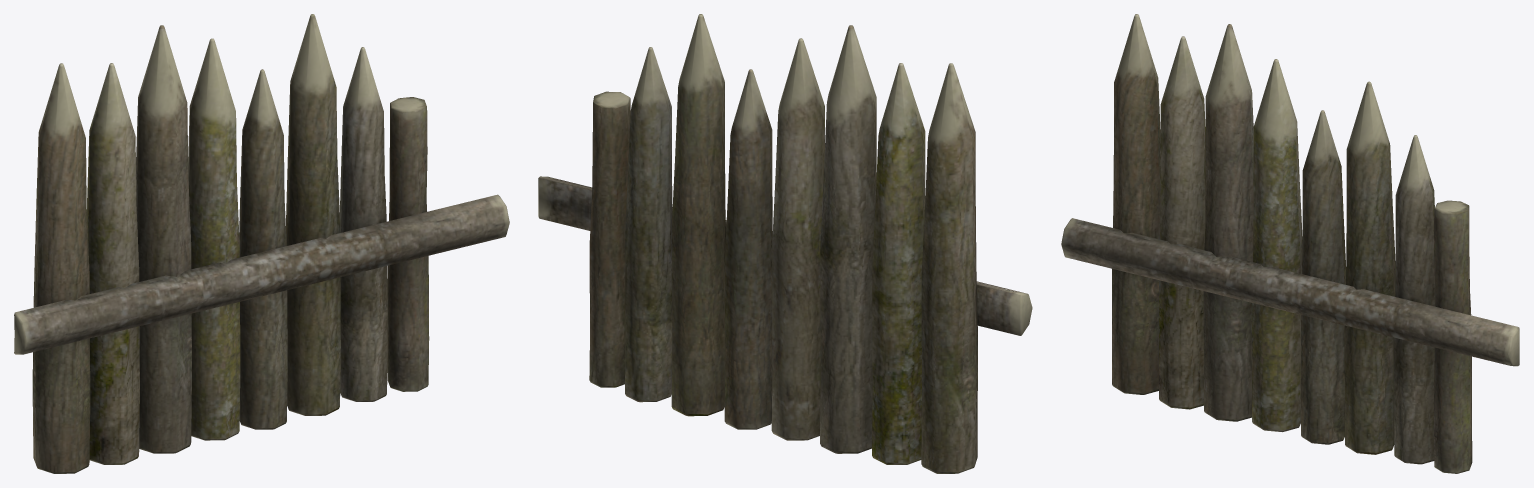
File: wooden_wall_1.glb
3 renders of one model, left to right at view 1: azimuth 30°, elevation 25°; view 2: azimuth 150°, elevation 25°; view 3: azimuth 330°, elevation 25°, orthographic. The views are drawn at different scales.
Visible parts, largest first — view 1: wooden_wall_1; view 2: wooden_wall_1; view 3: wooden_wall_1.
Boxes of the visible parts, box(x1,y1,x2,y2) form: wooden_wall_1: box(14, 14, 509, 473); wooden_wall_1: box(538, 14, 1032, 473); wooden_wall_1: box(1061, 14, 1519, 473).
Size of the model in its own units: 3.14 by 2.6 by 0.4393.
Materials: 1 (1 with a texture image).
